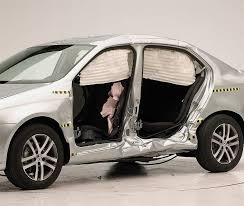Smashed: (63, 88, 212, 153)
